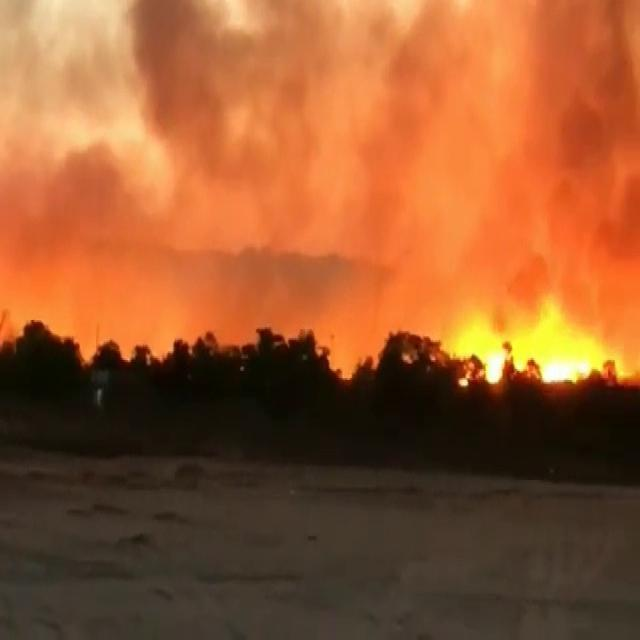Fire: (478, 319, 629, 385)
